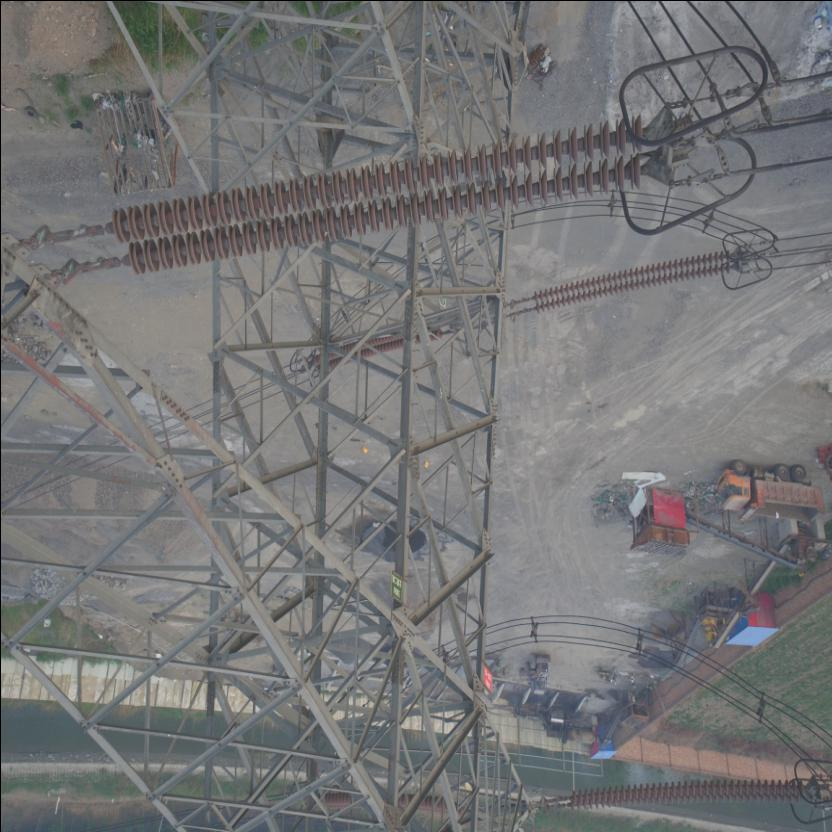insulator: (95, 112, 652, 280), (528, 247, 732, 316), (557, 779, 809, 813)
